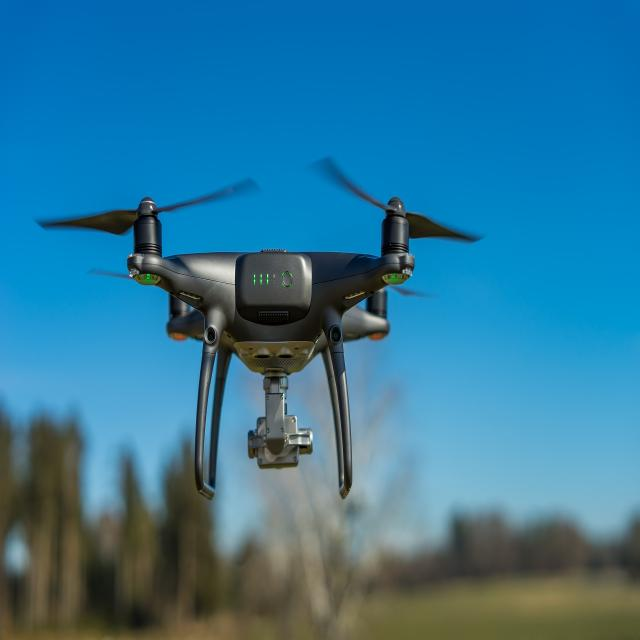drone: (31, 152, 492, 501)
